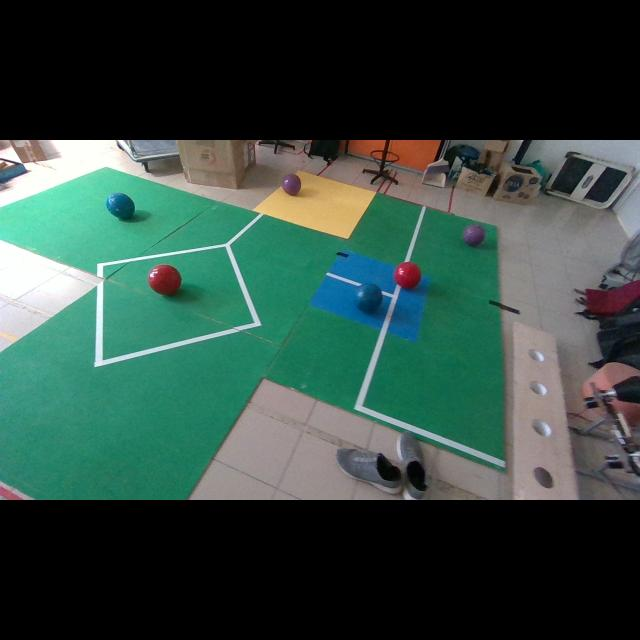B: (106, 192, 134, 220), (355, 284, 382, 312)
P: (462, 225, 486, 246), (282, 174, 301, 195)
R: (148, 264, 181, 295), (394, 262, 421, 288)
